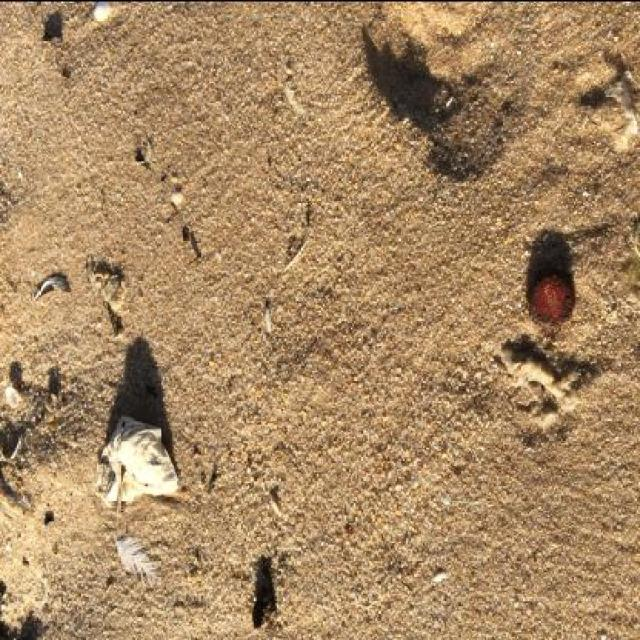metal: (528, 269, 574, 331)
